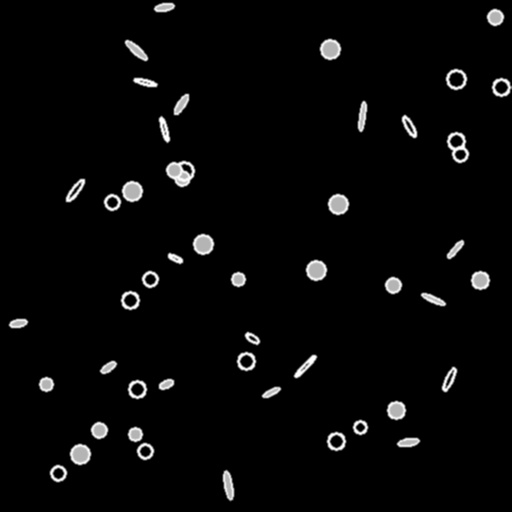pseudomonas: (64, 177, 86, 203), (294, 354, 316, 378), (124, 39, 148, 61), (441, 366, 457, 392), (172, 93, 190, 115), (400, 115, 418, 137), (446, 239, 464, 259), (222, 470, 234, 500), (421, 292, 445, 306), (158, 117, 170, 141), (261, 385, 281, 399), (99, 360, 117, 374), (133, 77, 157, 87), (358, 101, 366, 131), (244, 331, 260, 345), (398, 437, 418, 447), (158, 378, 174, 390), (167, 252, 183, 264), (9, 318, 27, 328), (155, 2, 173, 12)
synechocystis: (329, 195, 347, 213), (123, 182, 141, 200), (307, 261, 325, 279), (447, 70, 465, 88), (321, 40, 339, 58), (194, 235, 212, 253), (71, 445, 89, 463), (175, 162, 193, 180), (388, 402, 404, 418), (129, 381, 145, 397), (238, 353, 254, 369), (328, 433, 344, 449), (448, 133, 464, 149), (472, 272, 488, 288), (493, 79, 509, 95), (122, 292, 138, 308), (143, 272, 157, 286), (92, 423, 106, 437), (105, 195, 119, 209), (386, 278, 400, 292), (138, 444, 152, 458), (51, 466, 65, 480), (175, 171, 189, 185), (488, 10, 502, 24), (167, 163, 181, 177), (453, 147, 467, 161), (354, 421, 366, 433), (129, 428, 141, 440), (40, 378, 52, 390), (232, 273, 244, 285)
